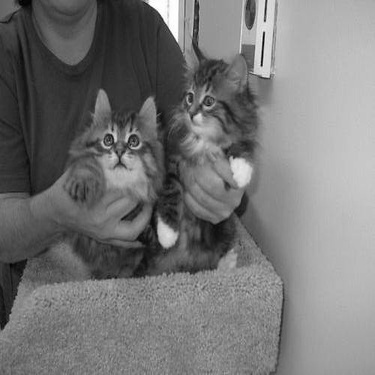cat: (148, 33, 260, 272), (60, 79, 162, 281)
